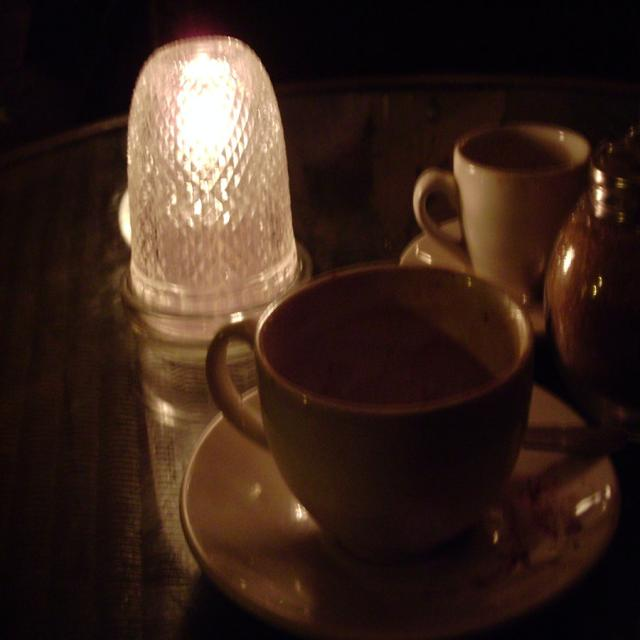Cup: (216, 257, 614, 636), (413, 137, 640, 339)
Table: (0, 48, 635, 640)
